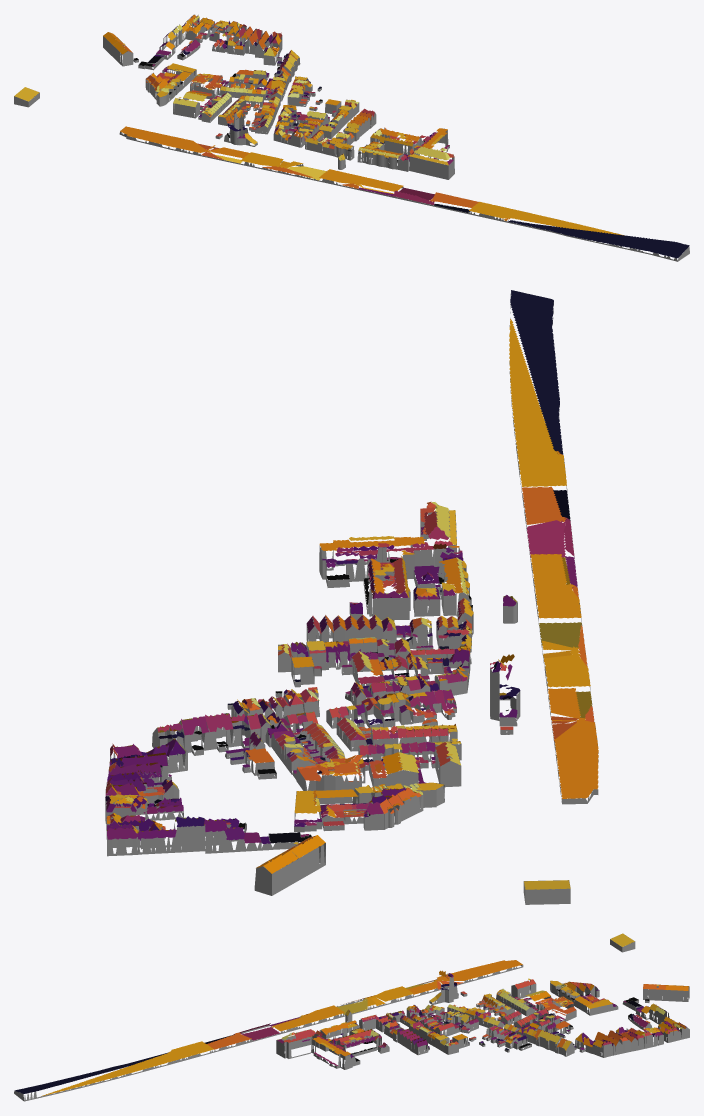
File: binnenstad_83000_447000.glb
The picture shows the model from 3 angles, top to bottom: view 1: azimuth 30°, elevation 25°; view 2: azimuth 150°, elevation 25°; view 3: azimuth 270°, elevation 25°; orthographic projection. The views are drawn at different scales.
Bounding box in the file's own units: 337 × 28.99 × 600.
